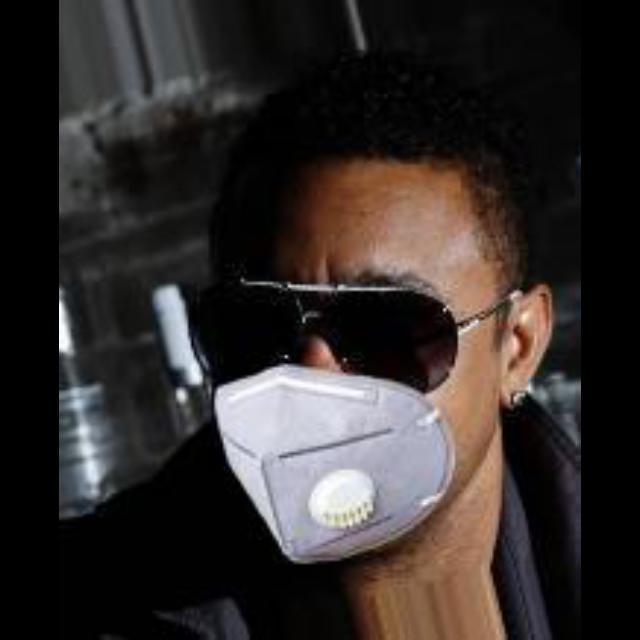suspicion: (173, 74, 542, 548)
